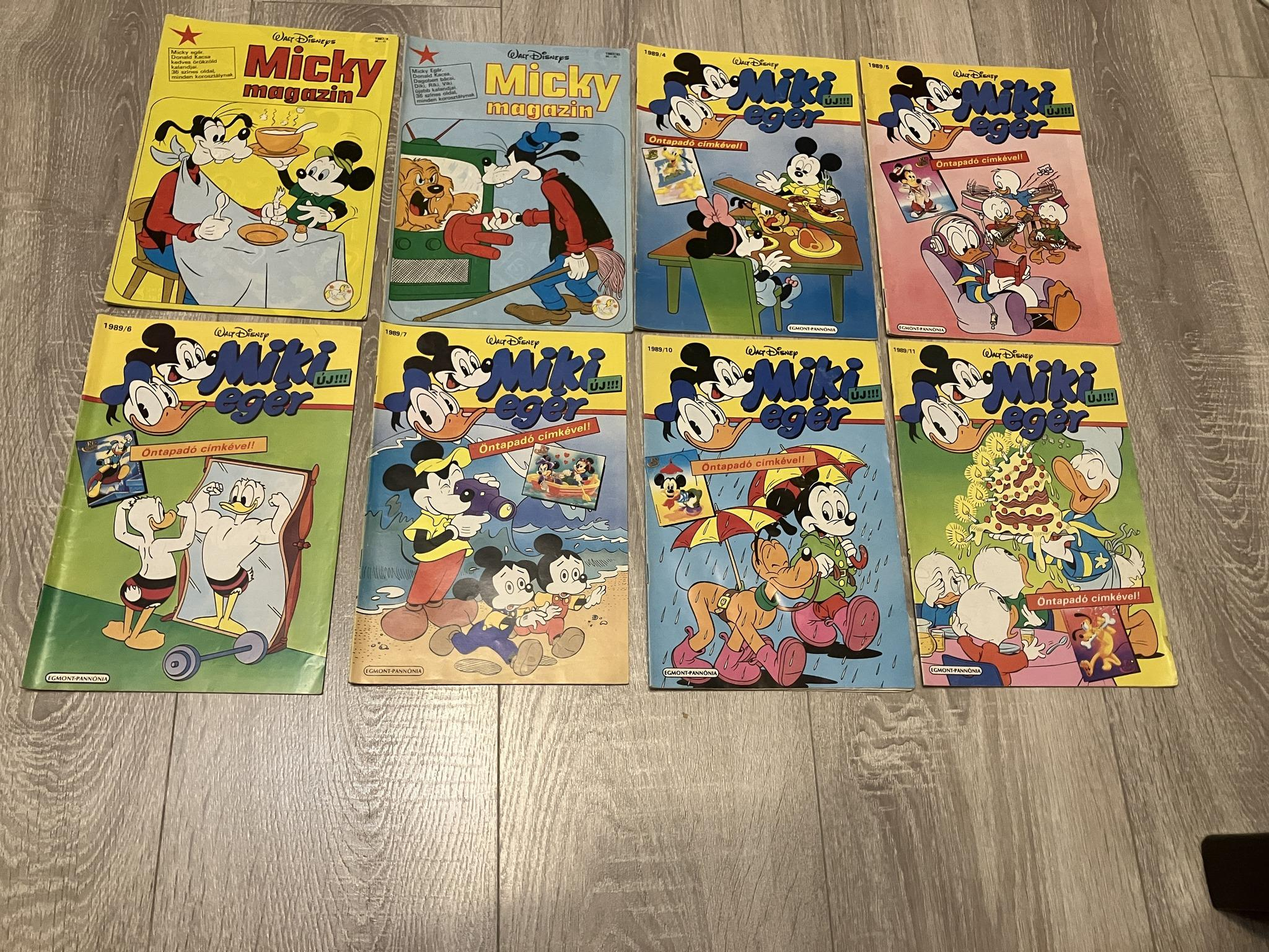comic: (23, 292, 368, 724), (885, 313, 1177, 713), (350, 324, 637, 690), (636, 325, 913, 698), (105, 12, 399, 324), (856, 34, 1120, 368), (385, 37, 647, 338), (629, 44, 884, 338)
